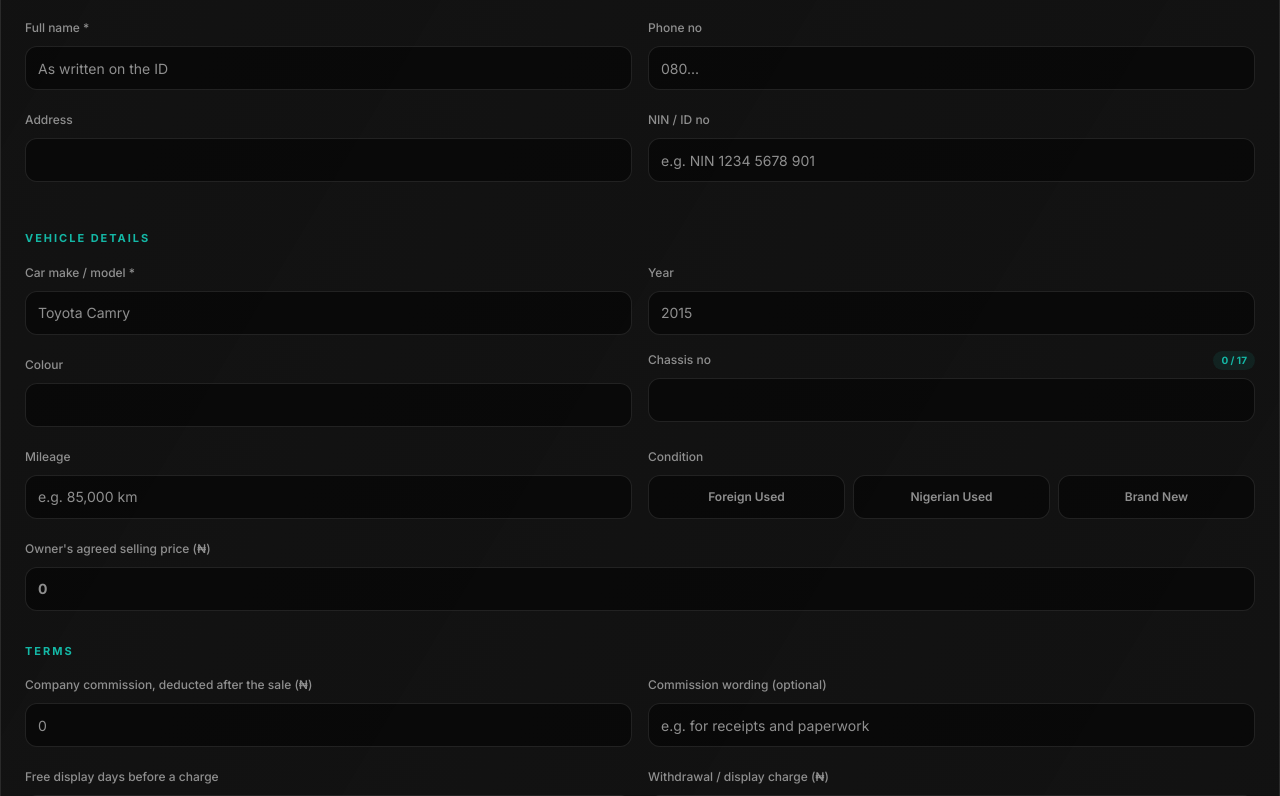
Test: Vehicle Display / Consignment Agreement › takes the full 17-character chassis number, upper-cased
(page scrolled)
Type "jt nbe46k7330 12345" into the field with class "uppercase" at (952, 400), box left=648, top=378, right=1255, bottom=422
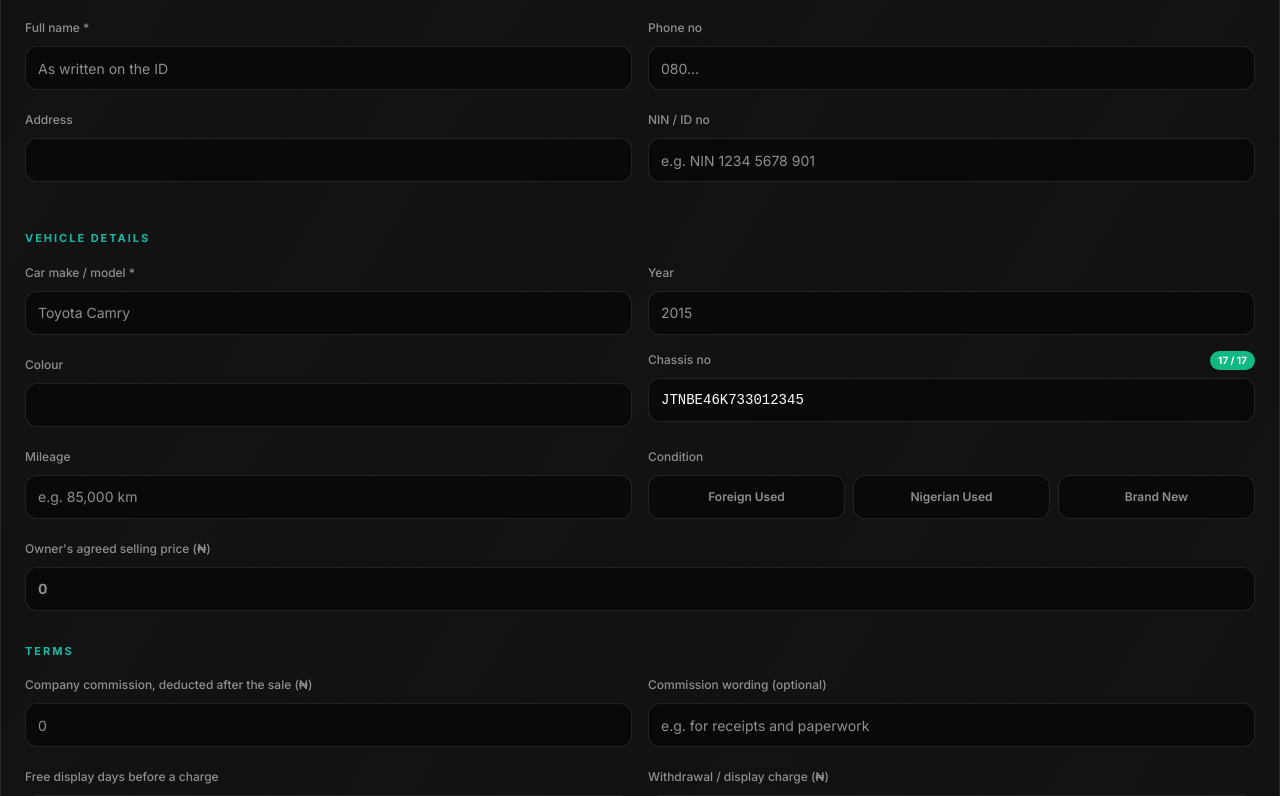
Now the field with class "uppercase" holds "JTNBE46K733012345"
Replace the text in the field with class "uppercase" with "4T1BF1FK5CU123456789" at (952, 400), box left=648, top=378, right=1255, bottom=422
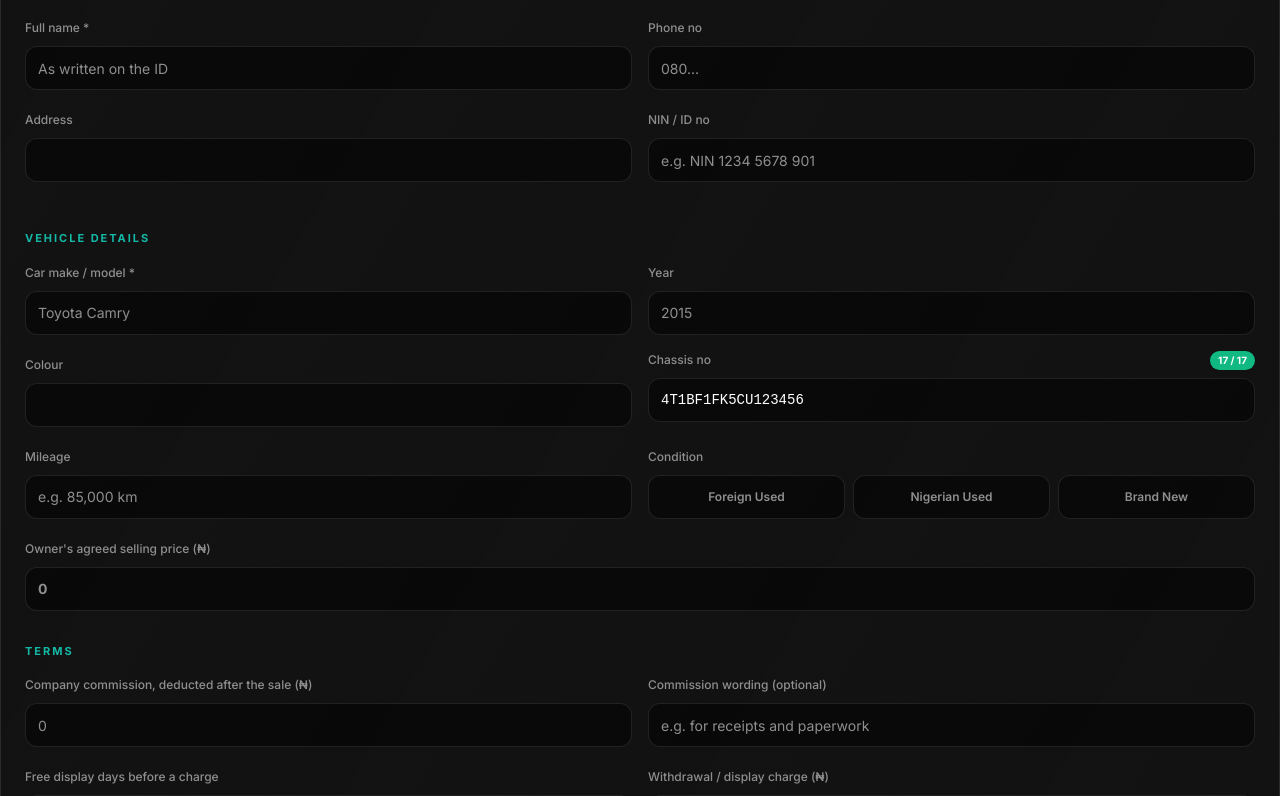
Now the field with class "uppercase" holds "4T1BF1FK5CU123456", box left=648, top=378, right=1255, bottom=422
